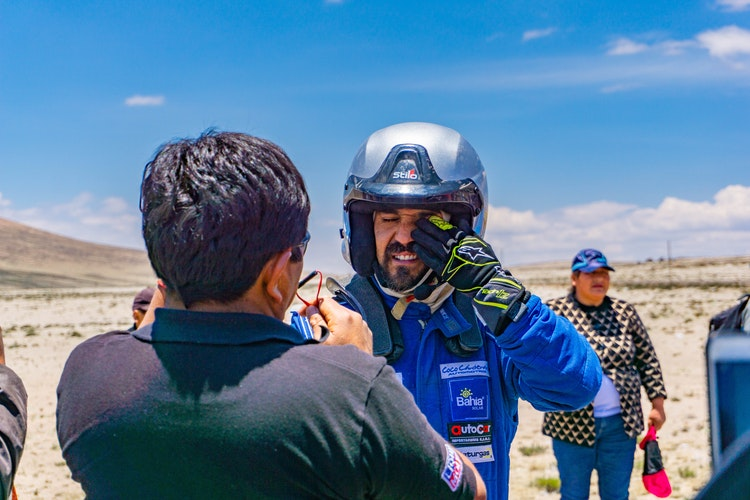helmet: (327, 127, 504, 278)
